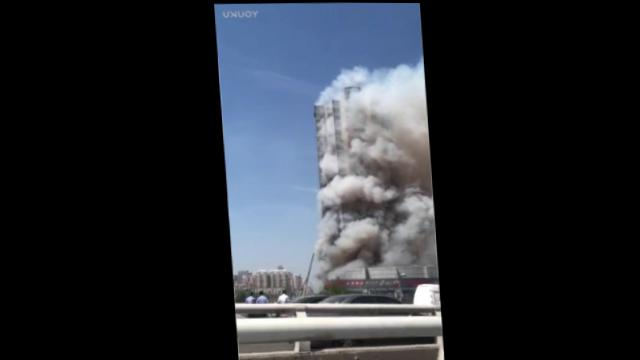smoke: (363, 61, 433, 264), (335, 95, 373, 266), (308, 148, 344, 278)
